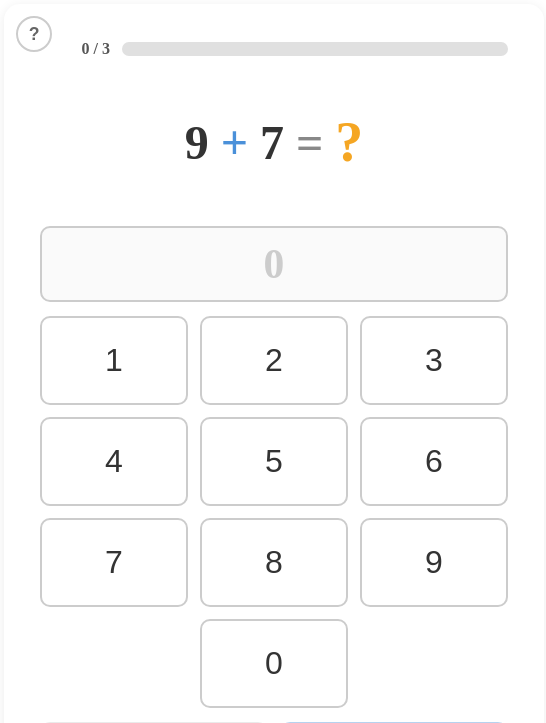
MathSolver › allows backspace
Click the button with test id "digit-btn-5" at (274, 462), box 200,417 -> 348,506
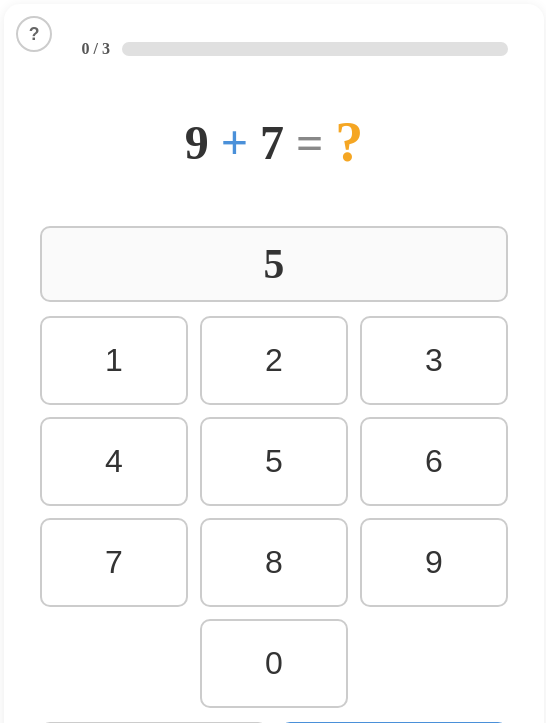
Click the button with test id "digit-btn-3" at (434, 360), box 360,316 -> 508,405
(page scrolled)
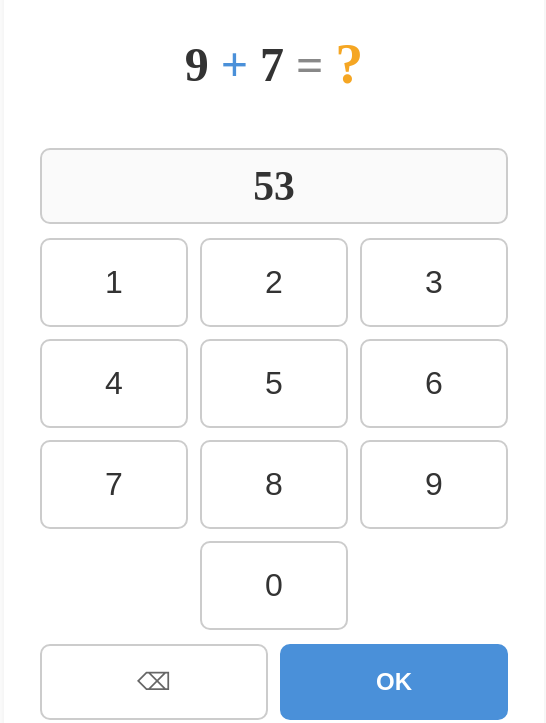
Now the field with test id "answer-display" reads "53", box 253,163 -> 295,209
Click the button with test id "backspace-btn" at (154, 682), box 40,644 -> 268,720
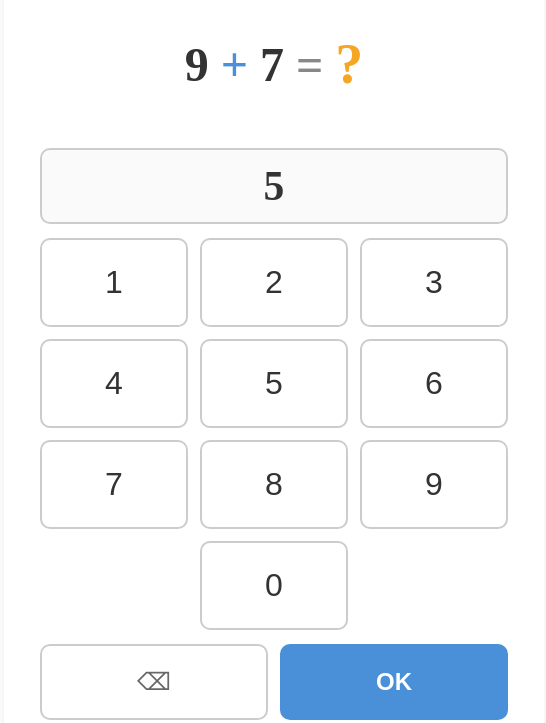
Now the field with test id "answer-display" reads "5", box 264,163 -> 284,209
